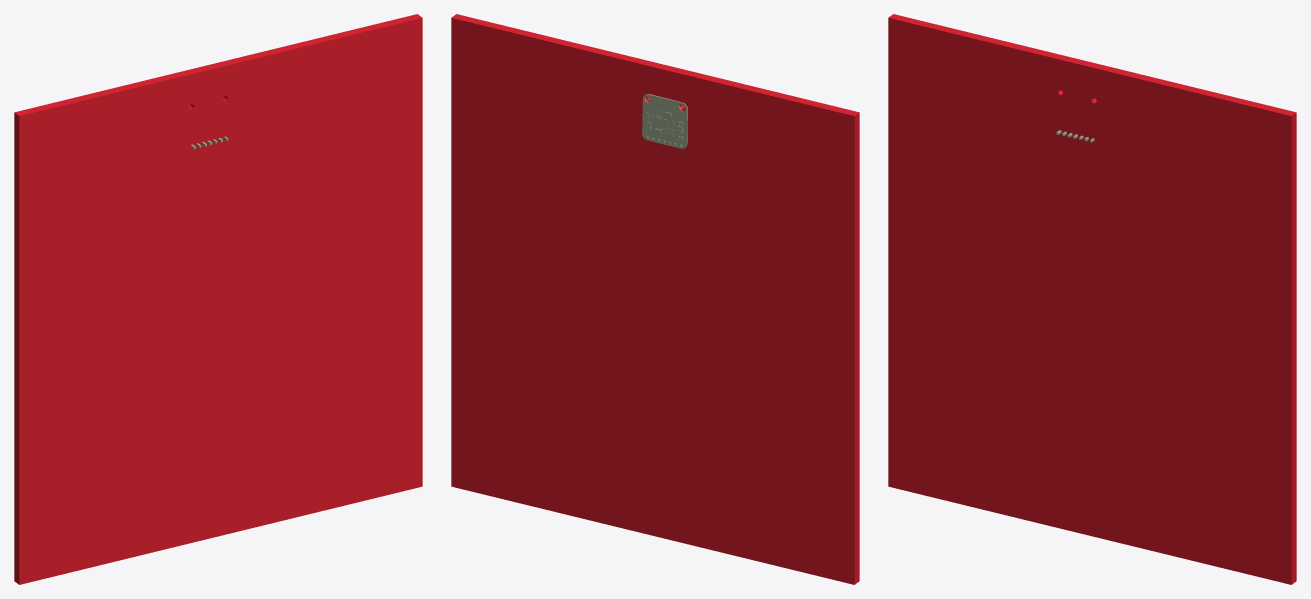
The model's file is tinker.obj.
The picture shows the model from 3 angles, left to right: view 1: azimuth 30°, elevation 25°; view 2: azimuth 150°, elevation 25°; view 3: azimuth 330°, elevation 25°; orthographic projection.
Visible parts, largest first — view 1: group_0_15277357; view 2: group_0_15277357, group_0_11057305; view 3: group_0_15277357.
Boxes of the visible parts, <box> form: group_0_15277357: <box>14,14,422,584</box>; group_0_15277357: <box>451,14,859,584</box>; group_0_11057305: <box>642,94,687,148</box>; group_0_15277357: <box>888,14,1296,584</box>.
Bounding box in the file's own units: 180 × 200 × 7.66.
